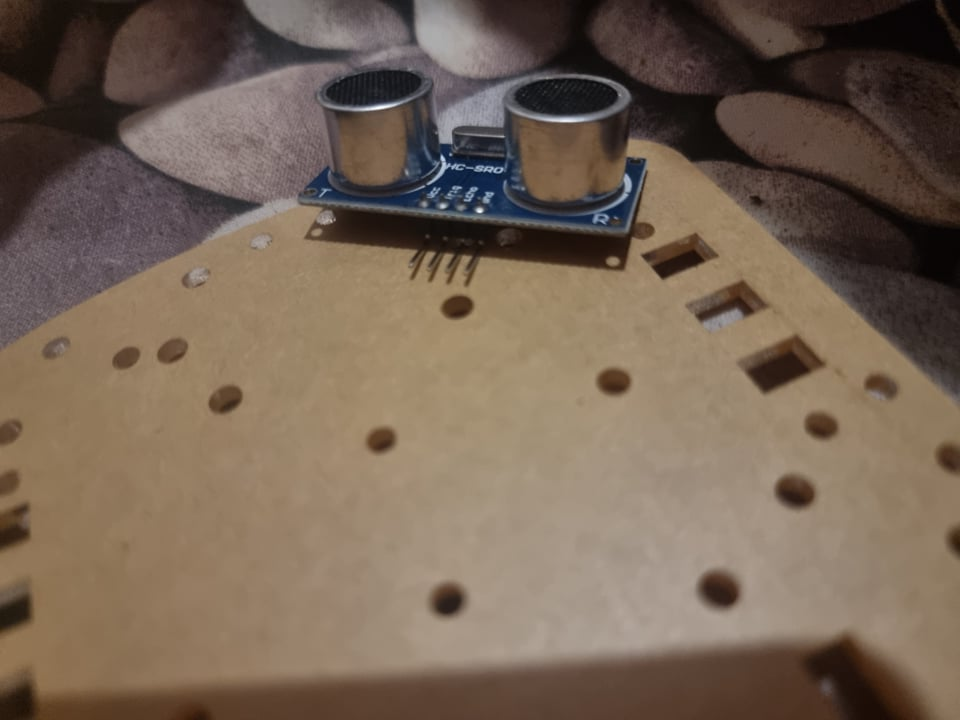SENSOR: (296, 63, 651, 238)
